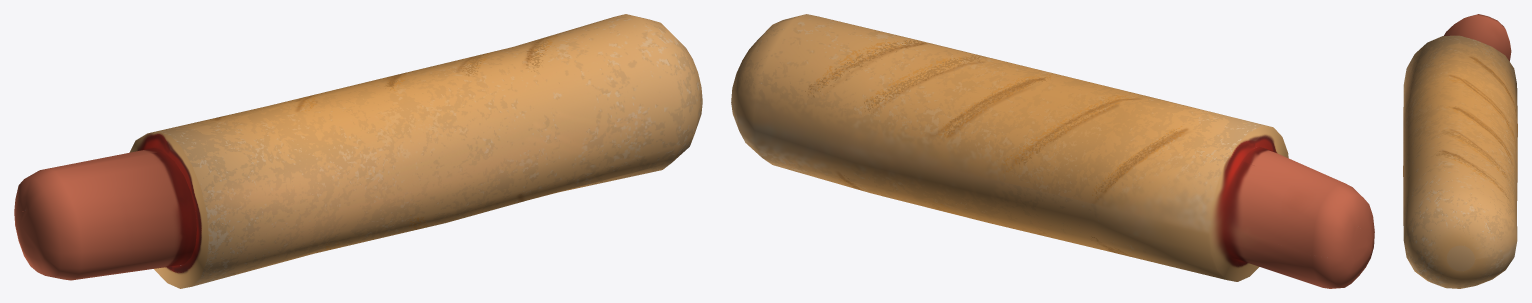
Rendered from frechdog ready.fbx.
3 views of the same model, side by side, from view 1: azimuth 30°, elevation 25°; view 2: azimuth 150°, elevation 25°; view 3: azimuth 270°, elevation 25° (orthographic). The views are drawn at different scales.
Visible parts, largest first — view 1: Cylinder.001; view 2: Cylinder.001; view 3: Cylinder.001.
Part boxes in pixels (<box>): Cylinder.001: <box>14,14,702,288</box>; Cylinder.001: <box>731,14,1374,288</box>; Cylinder.001: <box>1403,14,1517,288</box>.
Size of the model in its own units: 27.97 by 6.24 by 6.31.
Materials: 1 (1 with a texture image).
